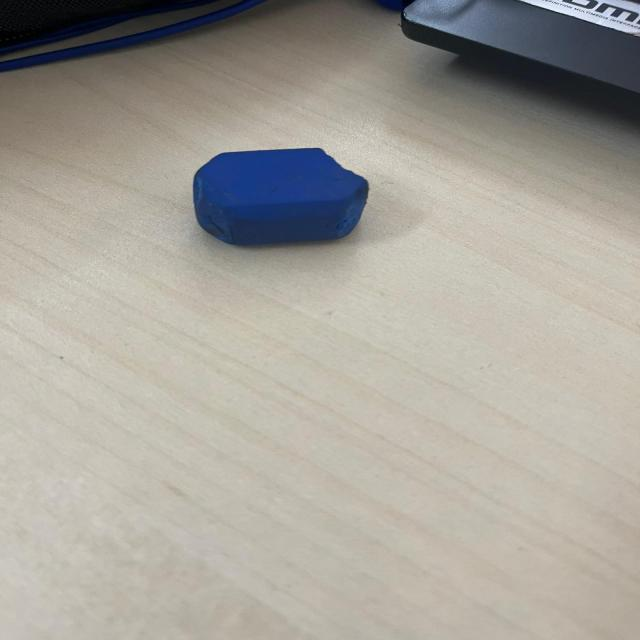eraser: (181, 141, 386, 253)
